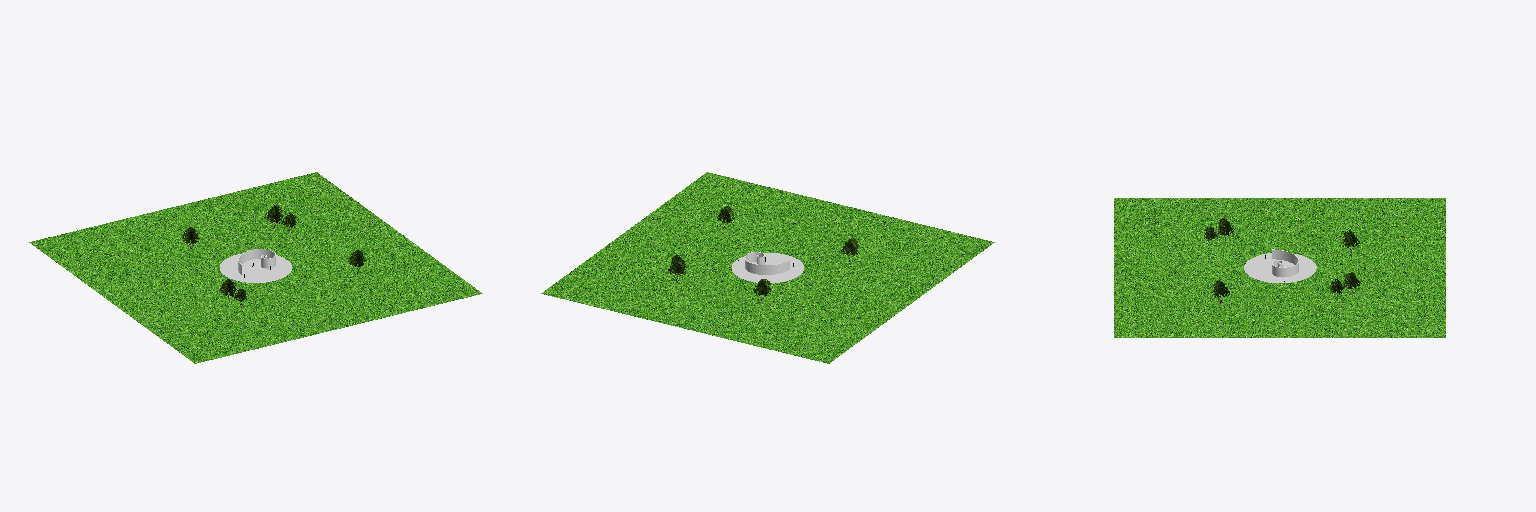
The picture shows the model from 3 angles: view 1: azimuth 30°, elevation 25°; view 2: azimuth 150°, elevation 25°; view 3: azimuth 270°, elevation 25°; orthographic projection.
Visible parts, largest first — view 1: pPlane1, pCylinder9; view 2: pPlane1, pCylinder9, polySurface9; view 3: pPlane1, pCylinder9, polySurface9.
Part boxes in pixels (x1,y1,x2,y2): pPlane1: (29,172,482,363); pCylinder9: (220,253,291,282); pPlane1: (541,172,994,363); pCylinder9: (732,253,803,282); polySurface9: (745,252,789,274); pPlane1: (1114,198,1445,337); pCylinder9: (1244,253,1316,282); polySurface9: (1272,249,1298,277).
Size of the model in its own units: 124 by 9.9 by 124.
6 materials, 3 textured.